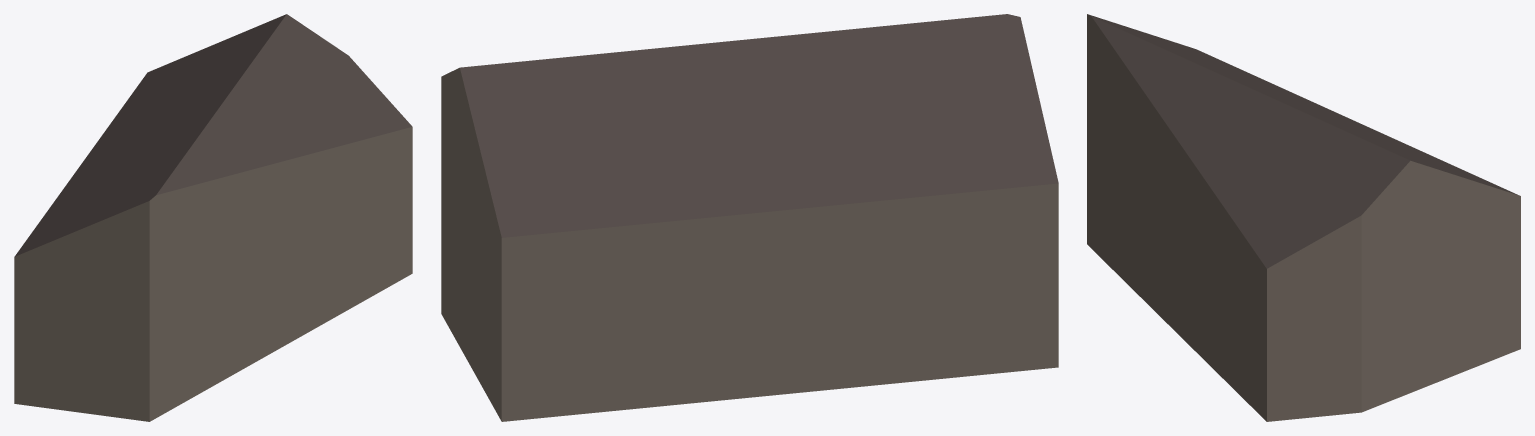
The picture shows the model from 3 angles, left to right: view 1: azimuth 30°, elevation 25°; view 2: azimuth 150°, elevation 25°; view 3: azimuth 270°, elevation 25°; orthographic projection. The views are drawn at different scales.
Visible parts, largest first — view 1: HP-w859447949; view 2: HP-w859447949; view 3: HP-w859447949.
Part boxes in pixels (box(x1,y1,x2,y2)): HP-w859447949: box(14, 14, 412, 421); HP-w859447949: box(441, 14, 1058, 421); HP-w859447949: box(1087, 14, 1520, 421).
Bounding box in the file's own units: 27.71 × 13.67 × 23.12.
